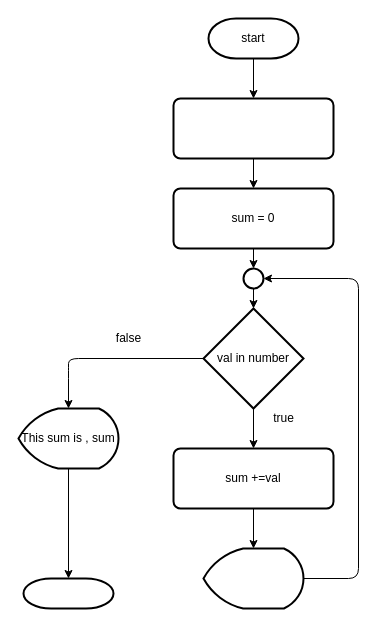
Image size: 384x626. Some labels were removed from this diagram. The shapes that lost their labels are listed below. From the top down, each one's centre as x and y in pixels, then its label:
At pixel 253 128: "numbers = [6, 5, 3, 8, 4, 2, 5, 4, 11]".
At pixel 68 593: "End".
At pixel 253 578: "sum".
